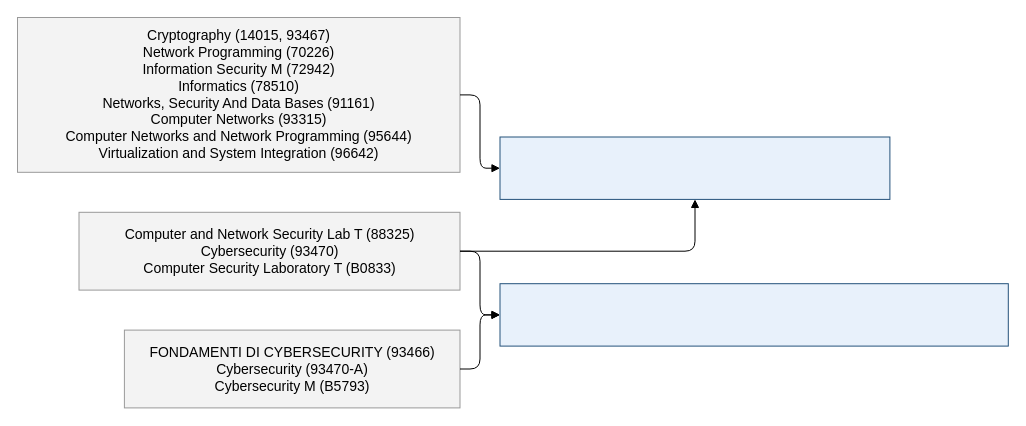
Some shapes in this 1026 by 426 pixel diagram are drawn without their labels. The shapes that lost their labels are listed below. From the top down, each one's centre as x and y in pixels, then its label:
(x=694, y=167): Cybersecurity Operations Security Foundations 3 ECTS
(x=753, y=314): Cybersecurity Operations Security Assessment and Exploitation 3 ECTS
